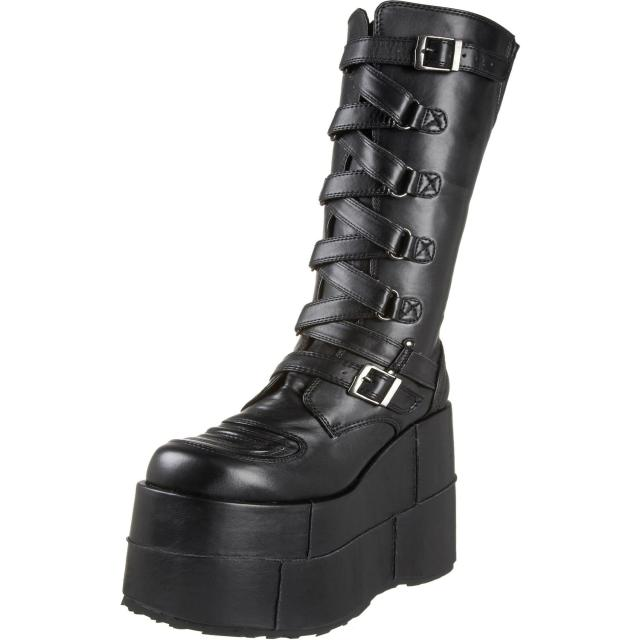boot: (58, 4, 565, 637)
